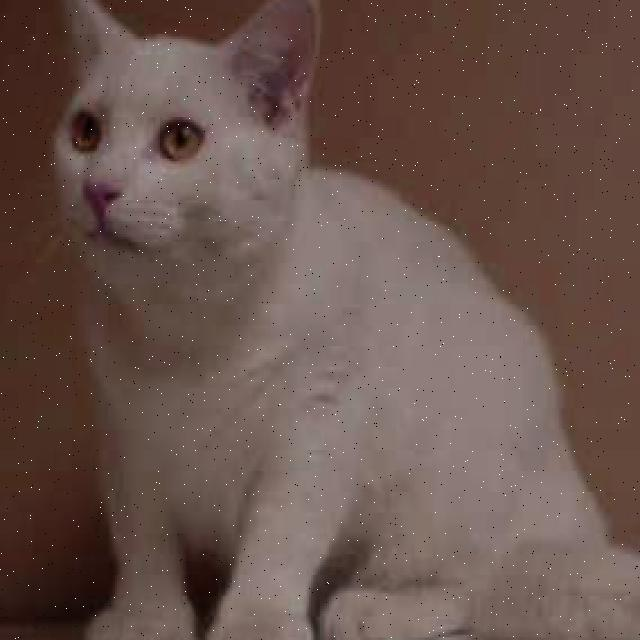Cat: (29, 0, 336, 297)
